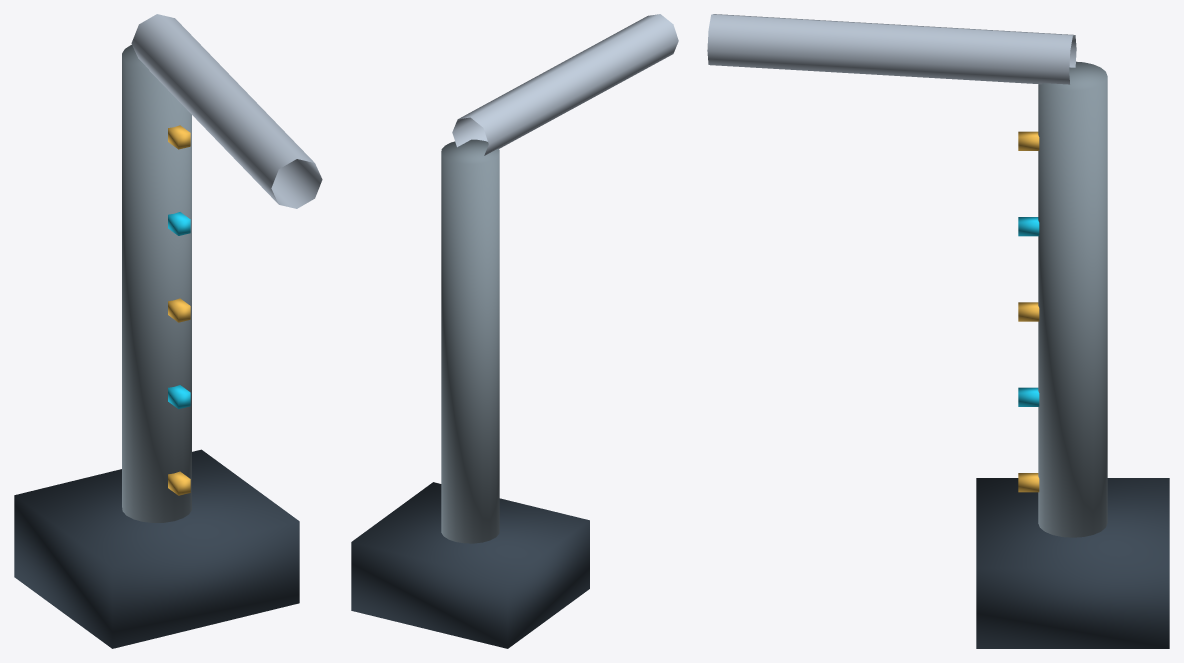
Rendered from 05_L94_InspectionMicroscopeArm.fbx.
3 views of the same model, side by side, from view 1: azimuth 30°, elevation 25°; view 2: azimuth 150°, elevation 25°; view 3: azimuth 270°, elevation 25° (orthographic). The views are drawn at different scales.
Parts seen in each view (by area): view 1: L94_InspectionMicroscopeArm, L94_InspectionMicroscopeArm_Part_0002; view 2: L94_InspectionMicroscopeArm, L94_InspectionMicroscopeArm_Part_0002; view 3: L94_InspectionMicroscopeArm, L94_InspectionMicroscopeArm_Part_0002.
Part boxes in pixels (left/top/right/bottom): L94_InspectionMicroscopeArm: left=14, top=45, right=299, bottom=648; L94_InspectionMicroscopeArm_Part_0002: left=131, top=14, right=322, bottom=208; L94_InspectionMicroscopeArm: left=351, top=139, right=589, bottom=648; L94_InspectionMicroscopeArm_Part_0002: left=452, top=14, right=678, bottom=155; L94_InspectionMicroscopeArm: left=976, top=61, right=1169, bottom=648; L94_InspectionMicroscopeArm_Part_0002: left=707, top=14, right=1076, bottom=84.
Bounding box in the file's own units: 43 × 127 × 93.25.
